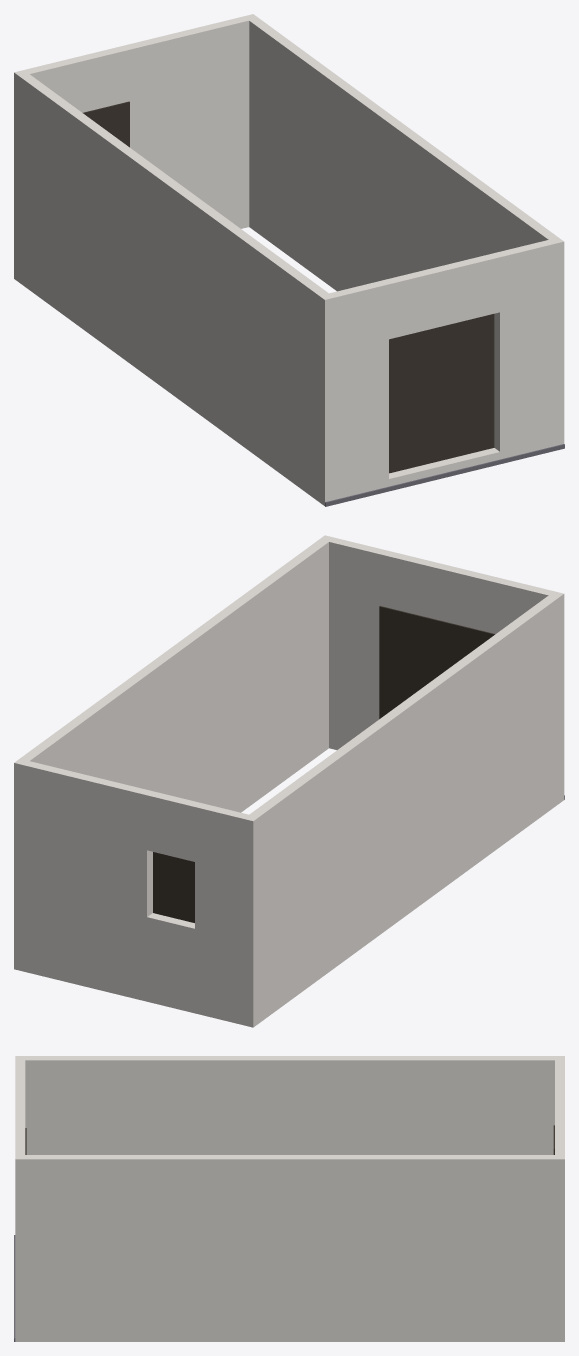
Rendered from SM_Floor_NarrowUpperBalcony_White_364_Back_01.gltf.
3 renders of one model, top to bottom at view 1: azimuth 30°, elevation 25°; view 2: azimuth 150°, elevation 25°; view 3: azimuth 270°, elevation 25°, orthographic. The views are drawn at different scales.
Parts seen in each view (by area): view 1: SM_Floor_NarrowUpperBalcony_White_364_Back_01; view 2: SM_Floor_NarrowUpperBalcony_White_364_Back_01; view 3: SM_Floor_NarrowUpperBalcony_White_364_Back_01.
Part boxes in pixels (x1,y1,x2,y2): SM_Floor_NarrowUpperBalcony_White_364_Back_01: [14, 14, 564, 506]; SM_Floor_NarrowUpperBalcony_White_364_Back_01: [14, 535, 564, 1027]; SM_Floor_NarrowUpperBalcony_White_364_Back_01: [14, 1056, 564, 1341].
Bounding box in the file's own units: 3.64 × 3 × 8.21.
Materials: 1 (1 with a texture image).
